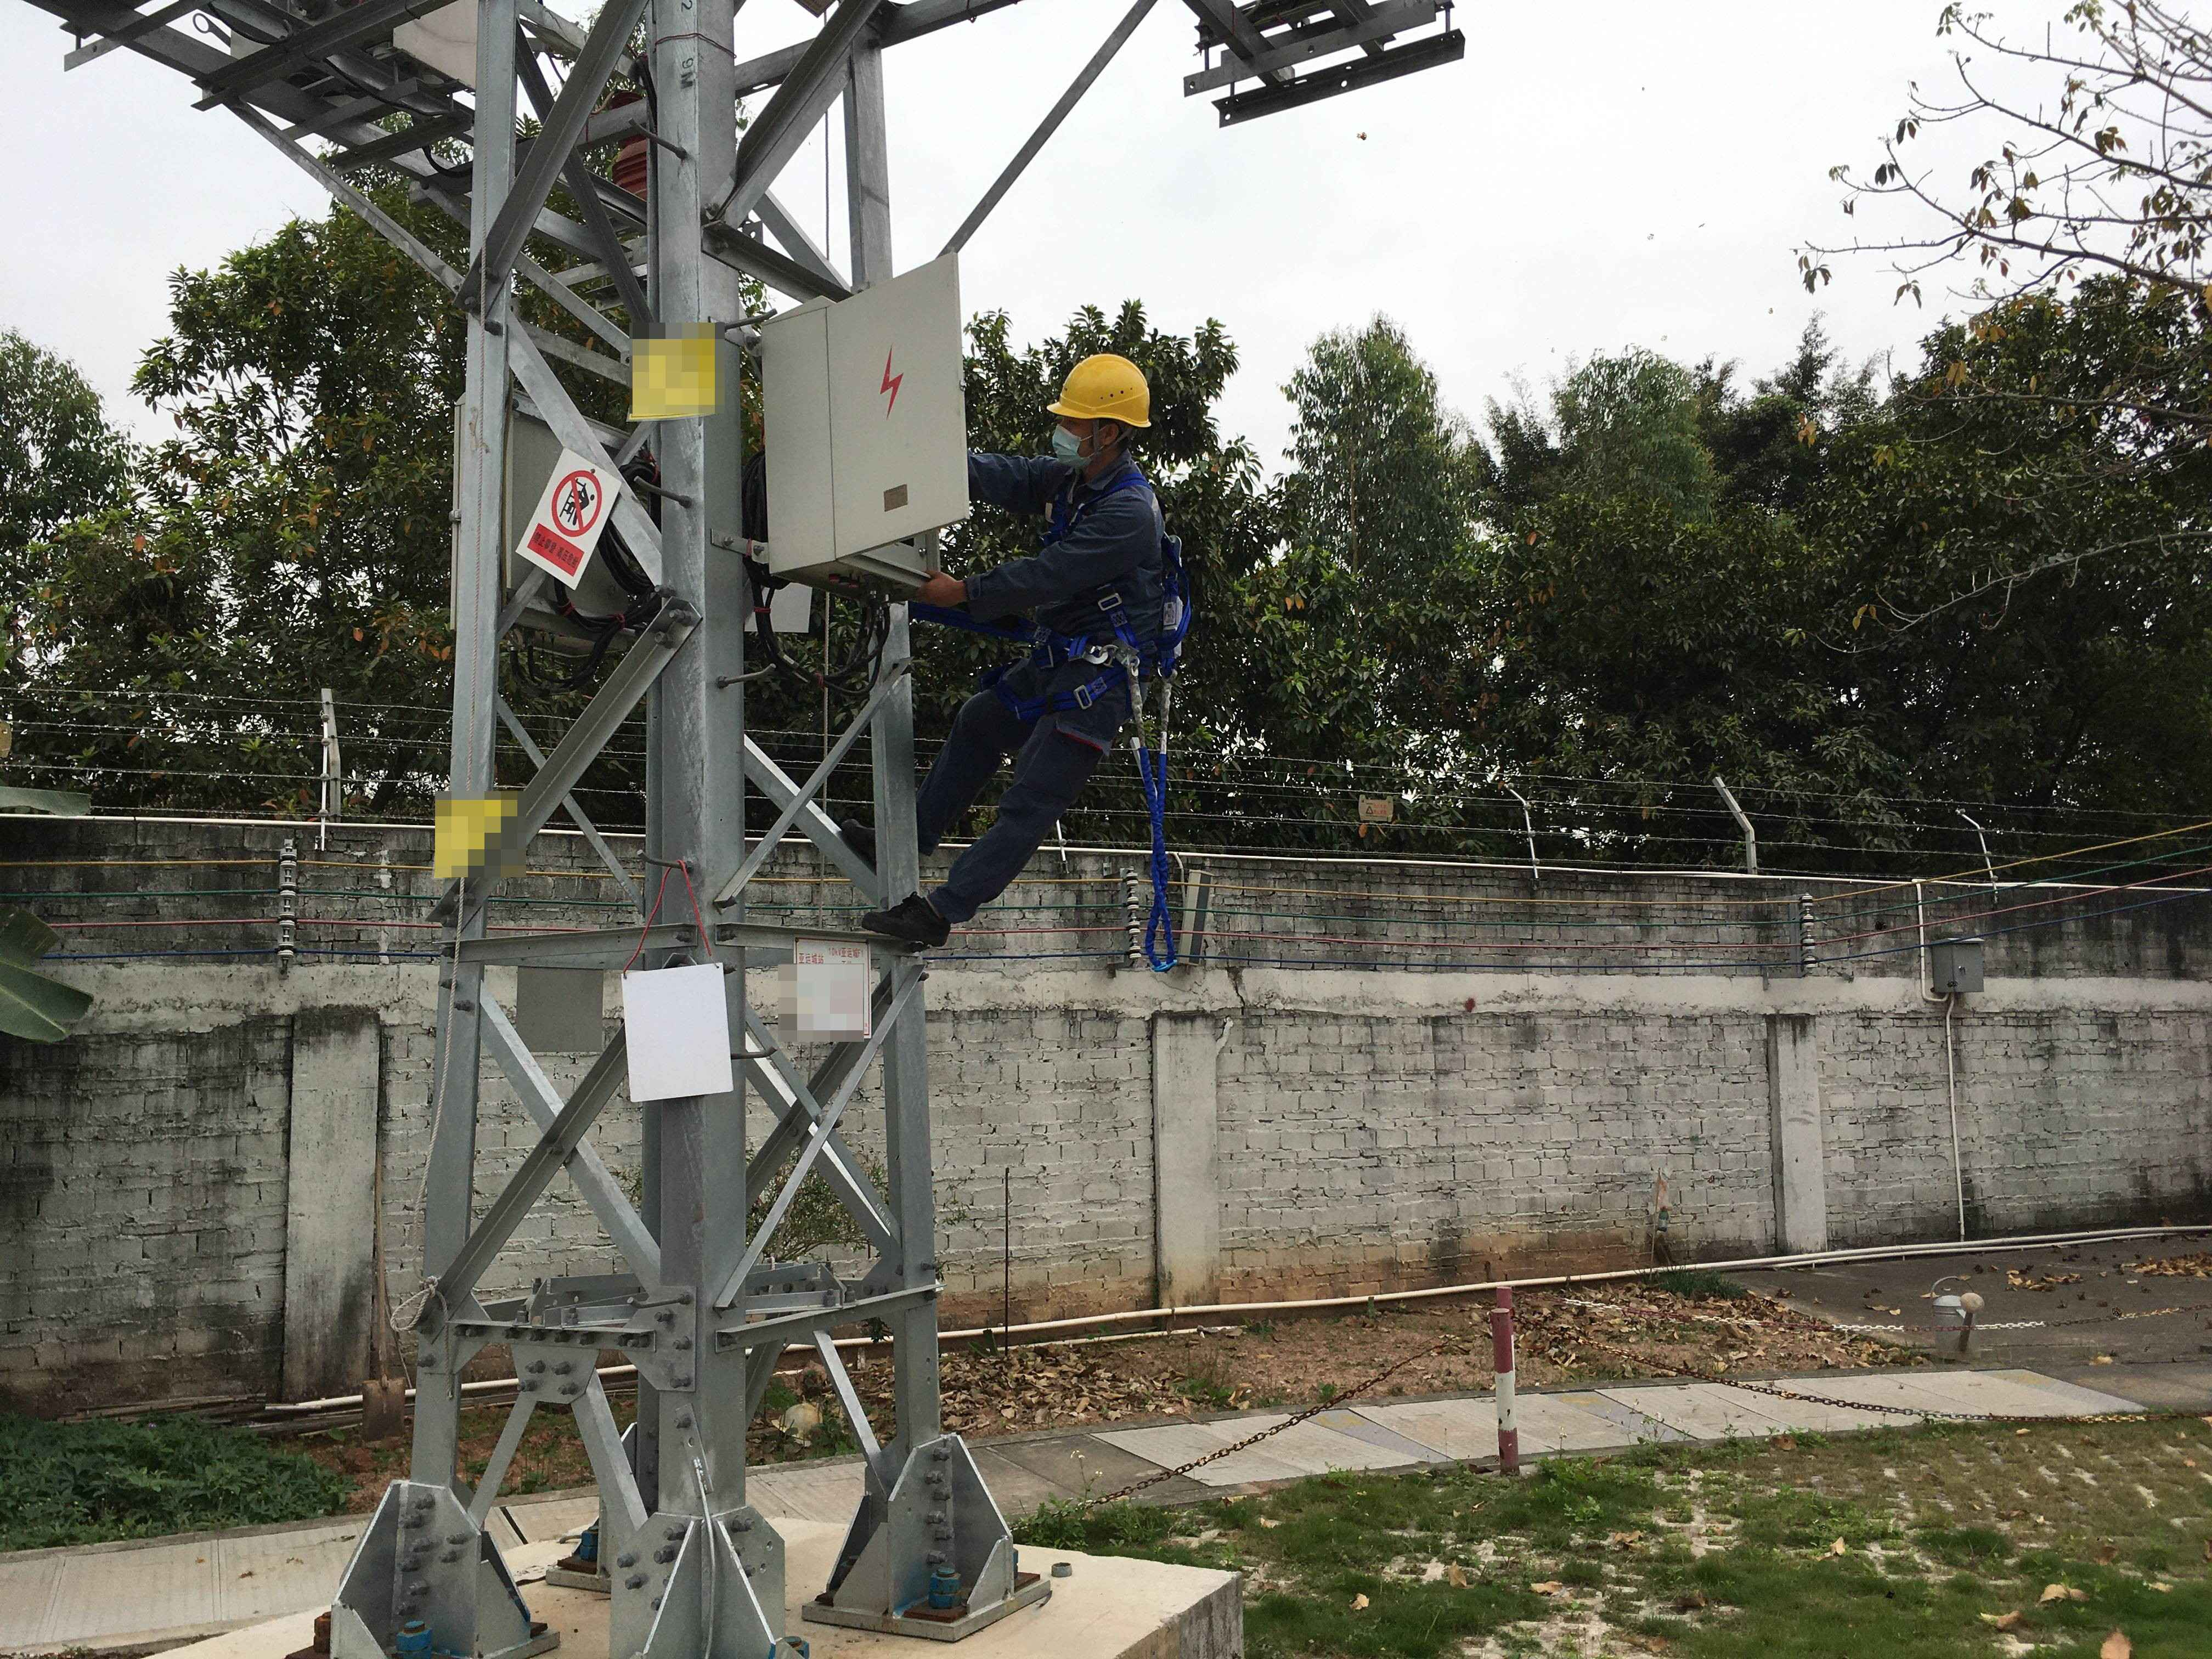downsuit: (920, 647, 1130, 910)
upsuit: (975, 458, 1169, 650)
